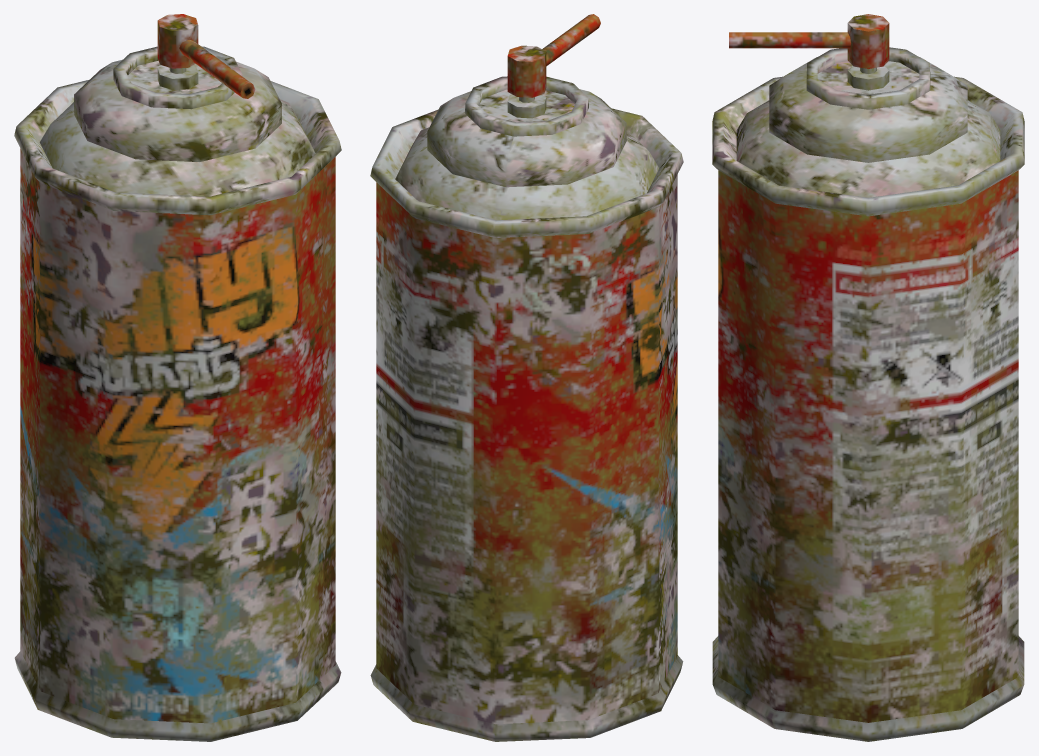
3 renders of one model, left to right at view 1: azimuth 30°, elevation 25°; view 2: azimuth 150°, elevation 25°; view 3: azimuth 270°, elevation 25°, orthographic. The views are drawn at different scales.
Parts seen in each view (by area): view 1: pCylinder1__WallaSprayCan; view 2: pCylinder1__WallaSprayCan; view 3: pCylinder1__WallaSprayCan.
Part boxes in pixels (x1,y1,x2,y2): pCylinder1__WallaSprayCan: (14,14,341,741); pCylinder1__WallaSprayCan: (370,14,683,741); pCylinder1__WallaSprayCan: (712,14,1024,741).
Size of the model in its own units: 0.5127 by 1.12 by 0.4876.
Materials: 1 (1 with a texture image).
